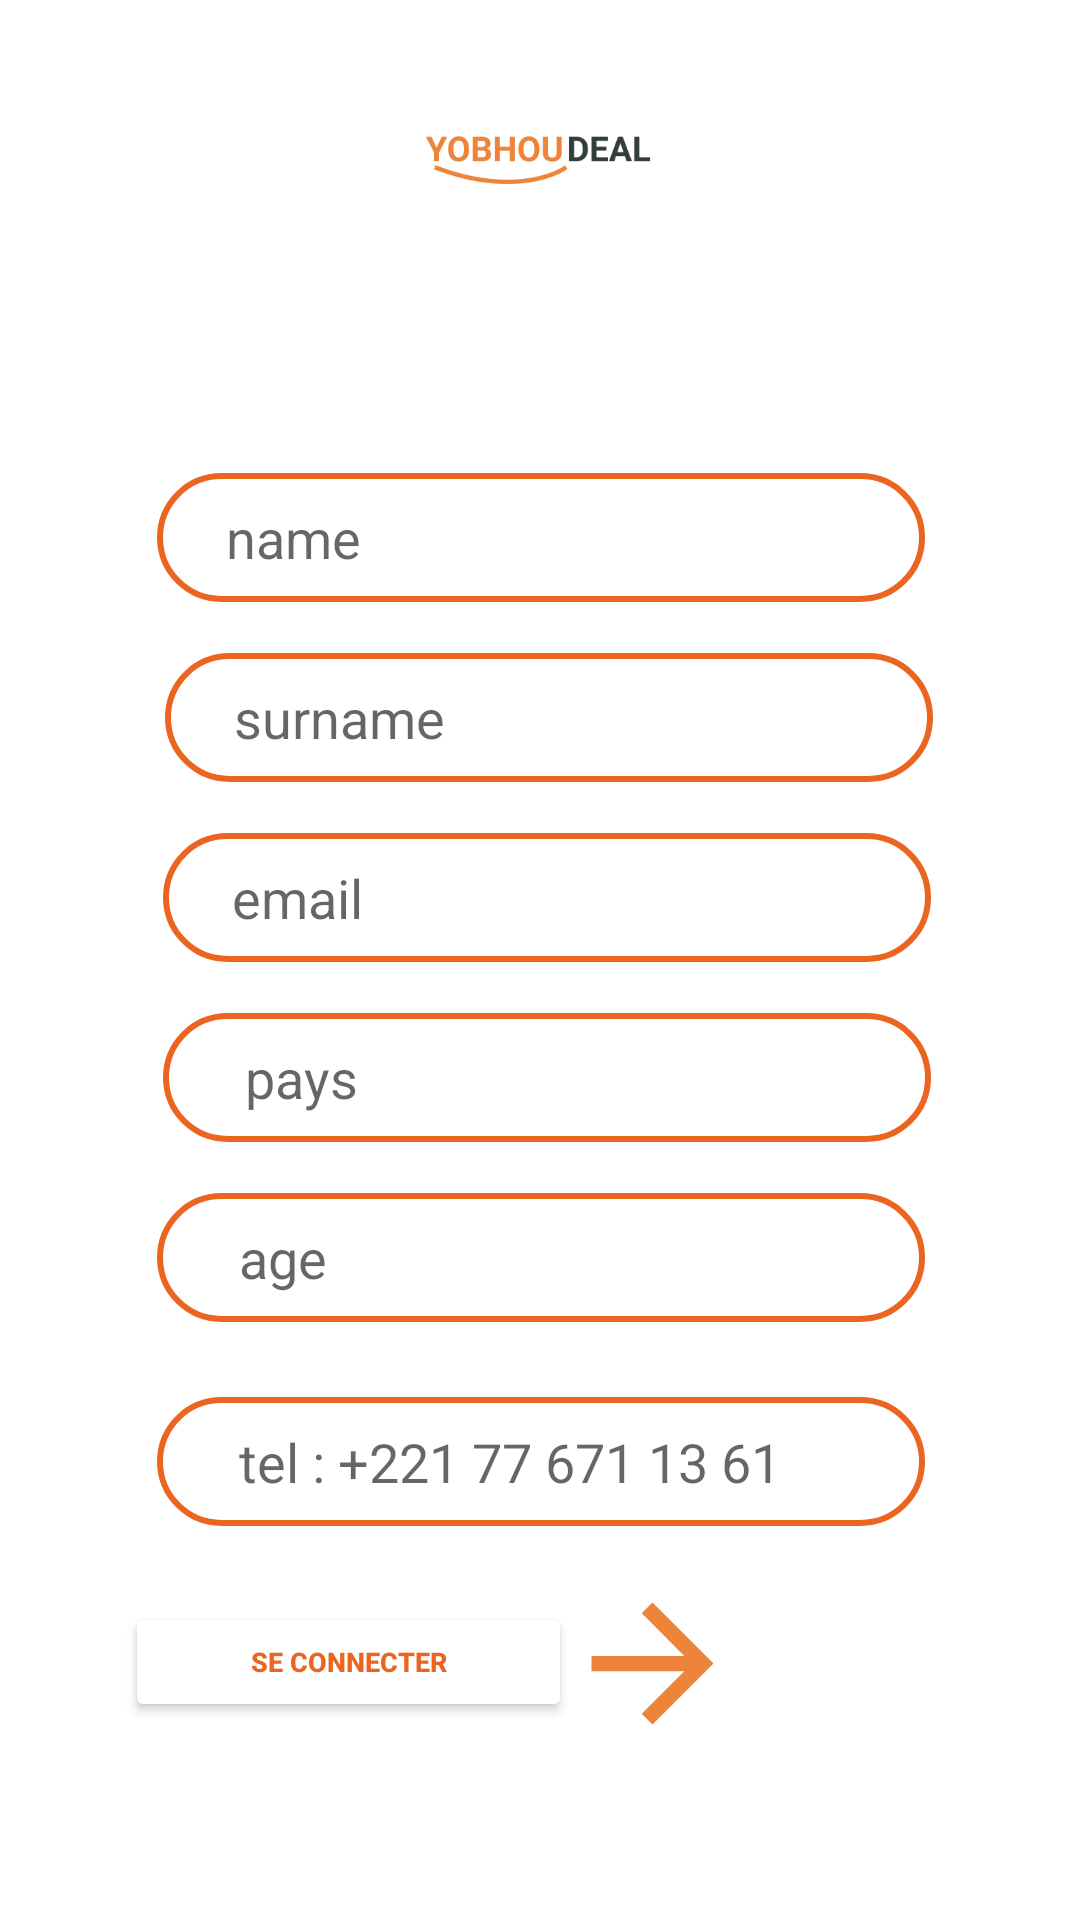

Icons on this 1080px×1920px Android screen, each with the point to tap as (x,y):
arrow right: (652,1663)
